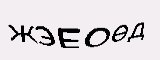И: (86, 11, 114, 50)
Л: (117, 13, 147, 47)
О: (21, 12, 41, 35)
С: (61, 12, 84, 46)
Ф: (41, 7, 58, 41)
